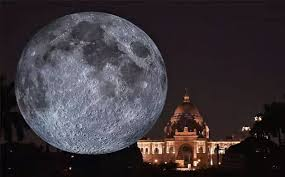moon: (16, 11, 168, 158)
